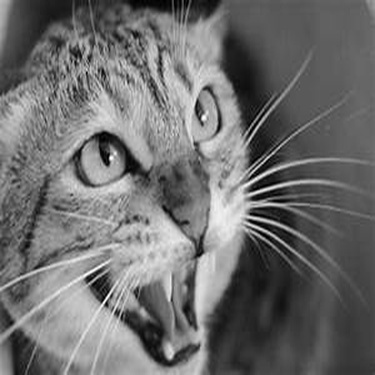cat: (3, 4, 353, 373)
